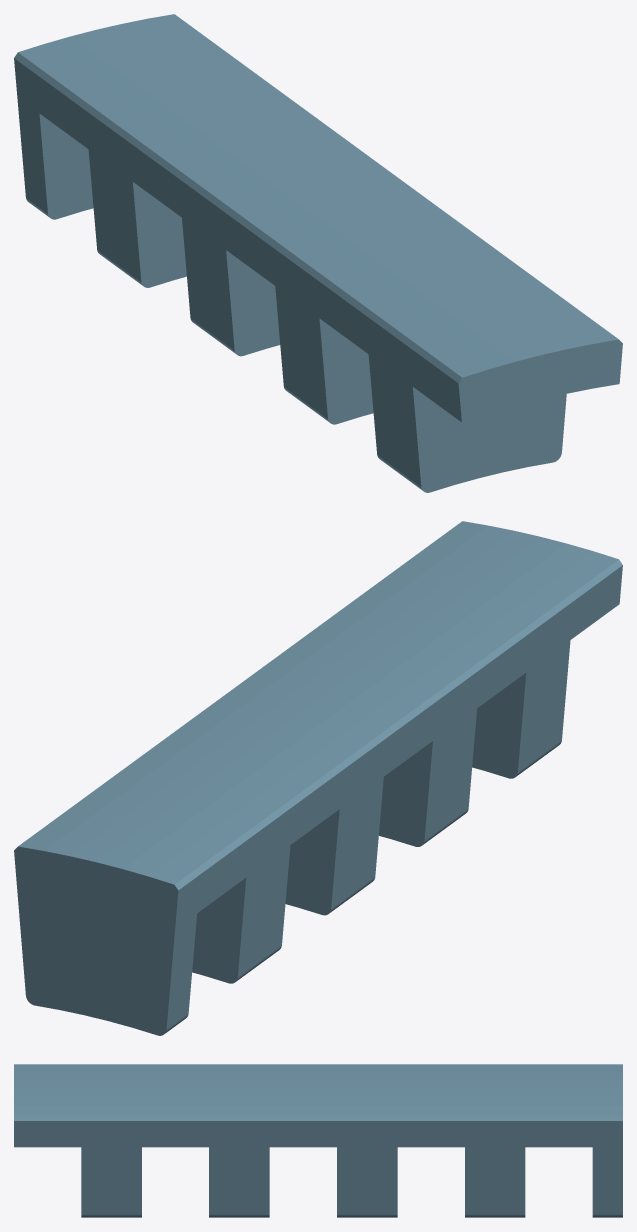
Rendered from comb-rail-section-1.glb.
The picture shows the model from 3 angles, top to bottom: view 1: azimuth 30°, elevation 25°; view 2: azimuth 150°, elevation 25°; view 3: azimuth 270°, elevation 25°; orthographic projection. The views are drawn at different scales.
Visible parts, largest first — view 1: comb-rail-front; view 2: comb-rail-front; view 3: comb-rail-front.
Part boxes in pixels (x1,y1,x2,y2): comb-rail-front: (14, 14, 622, 492); comb-rail-front: (14, 521, 622, 1035); comb-rail-front: (14, 1064, 622, 1217).
Size of the model in its own units: 38.65 by 35.56 by 181.
